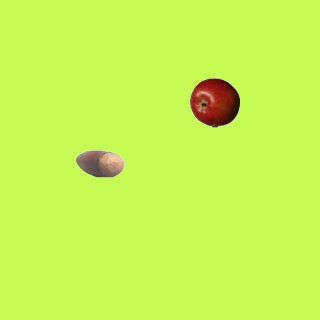Apple Braeburn: (189, 77, 239, 127)
Hazelnut: (74, 138, 124, 188)
